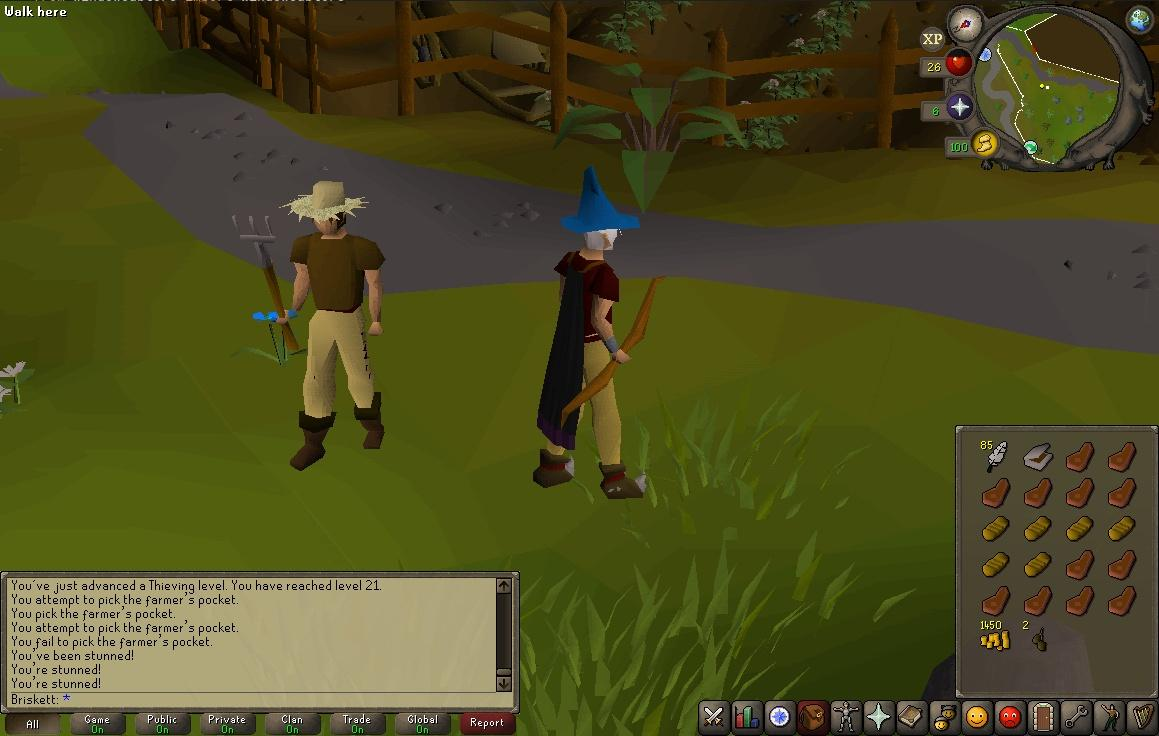Farmer: (274, 180, 387, 471)
